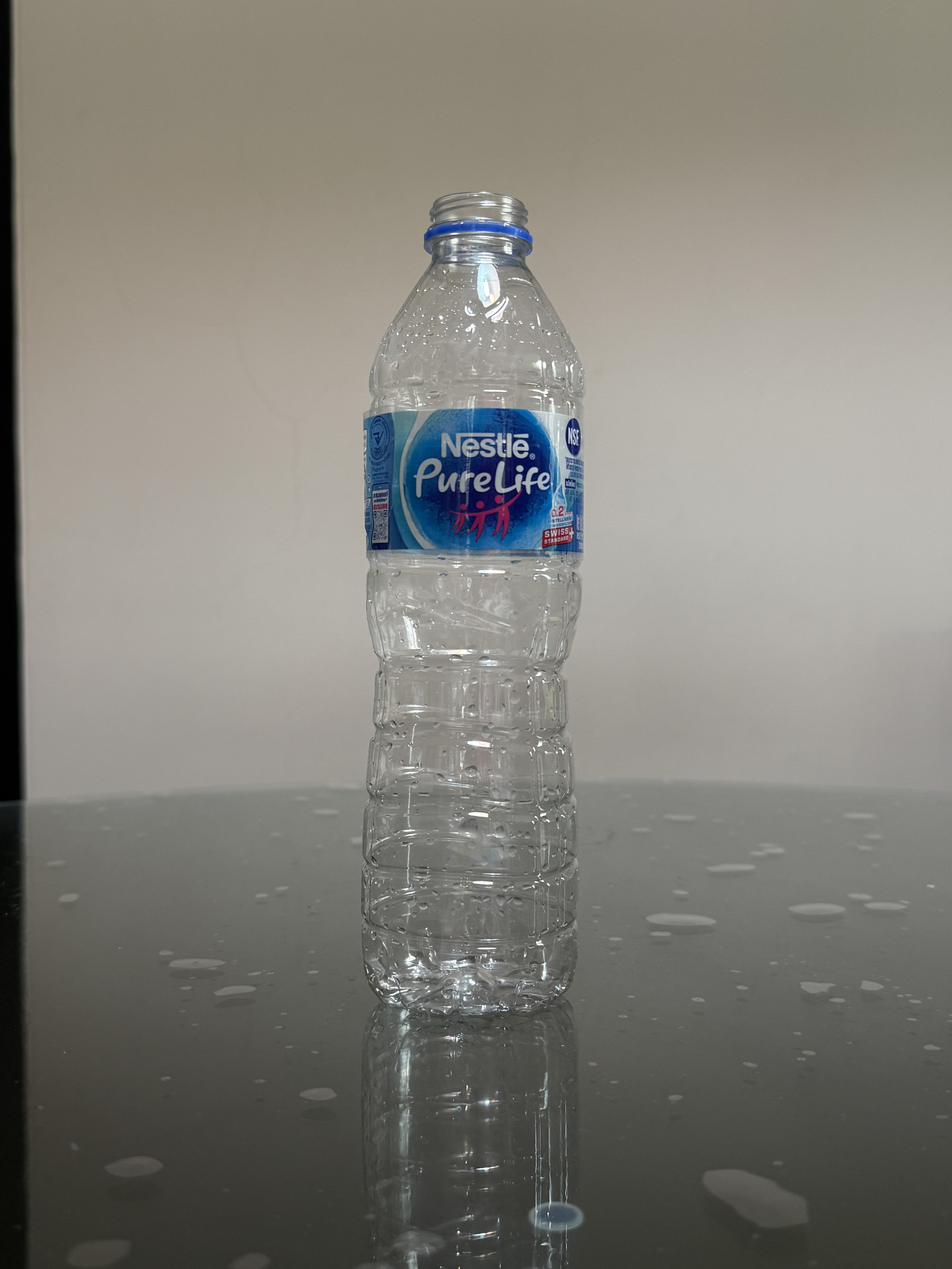no_cap: (423, 189, 533, 253)
